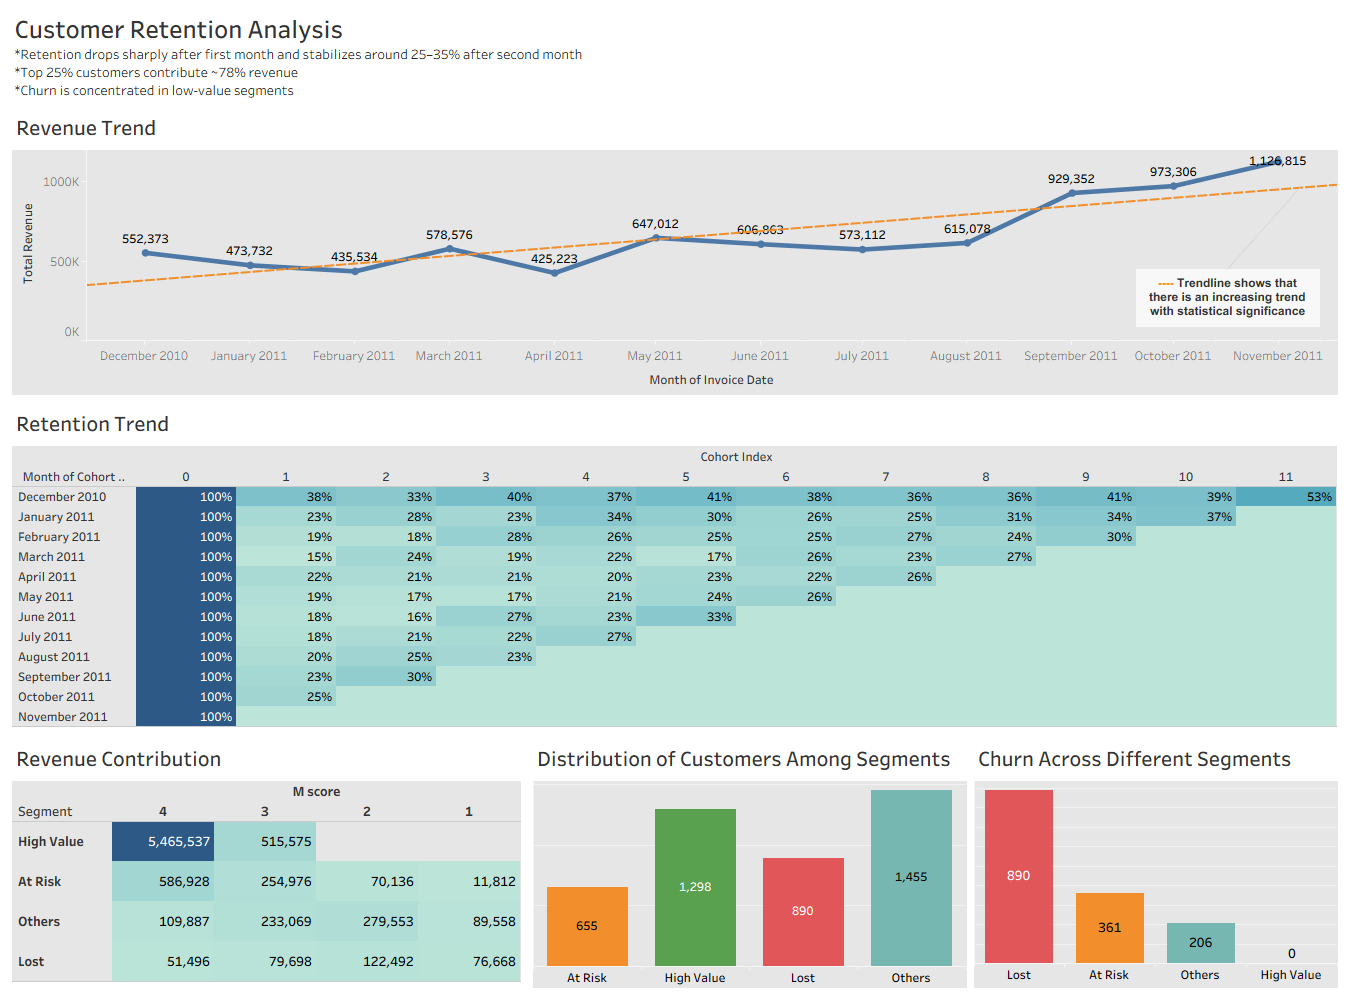

What the dashboard file says about the page in this screenshot:
{"tool":"tableau","page":{"name":"Customer Retention Analysis","canvas":[1000,1000],"units":"permille","ordinal":0},"visuals":[{"type":"dashboard-object","box":[848.1,4,144,52]},{"type":"title","box":[7,8,986,95]},{"type":"worksheet","title":"Revenue Trend","mark":"Automatic","rows":["Calculation_0580328612642836"],"cols":["InvoiceDate"],"box":[7,103,986,296.3]},{"type":"worksheet","title":"Retention Trend","mark":"Square","rows":["Calculation_0580328589279245"],"cols":["Calculation_0580328589402126"],"box":[7,399.3,986,334.4]},{"type":"worksheet","title":"Revenue Contribution","mark":"Square","rows":["Segment"],"cols":["M_score"],"box":[7,733.7,385.4,258.3]},{"type":"worksheet","title":"Segment Distribution","mark":"Bar","rows":["Calculation_0580328589578255"],"cols":["Segment"],"box":[392.4,733.7,326.5,258.3]},{"type":"worksheet","title":"Segment Vs Churn","mark":"Automatic","rows":["No of Customers (copy)_0580328622665767"],"cols":["Segment"],"box":[718.9,733.7,274.1,258.3]}]}

Visuals, with their boxes on the dashboard's canvas, which has no fixed pixel size, in thousandths of its width and height (x1, y1, x2, y2). These are canvas units, not pixel positions in the 1349x1000 screenshot, which may show the page scaled, cropped or inside an application window:
dashboard-object: locate(848, 4, 992, 56)
title: locate(7, 8, 993, 103)
"Revenue Trend" worksheet: locate(7, 103, 993, 399)
"Retention Trend" worksheet (Square marks): locate(7, 399, 993, 734)
"Revenue Contribution" worksheet (Square marks): locate(7, 734, 392, 992)
"Segment Distribution" worksheet (Bar marks): locate(392, 734, 719, 992)
"Segment Vs Churn" worksheet: locate(719, 734, 993, 992)
